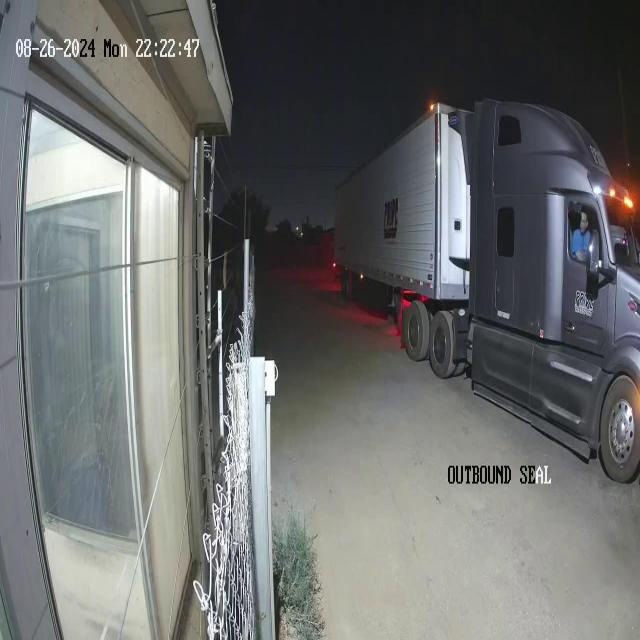TRUCK_IN: (332, 96, 640, 484)
